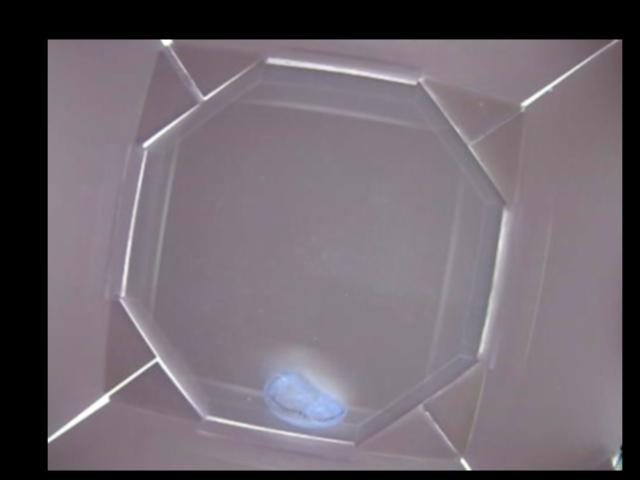Pebble: (261, 371, 346, 426)
